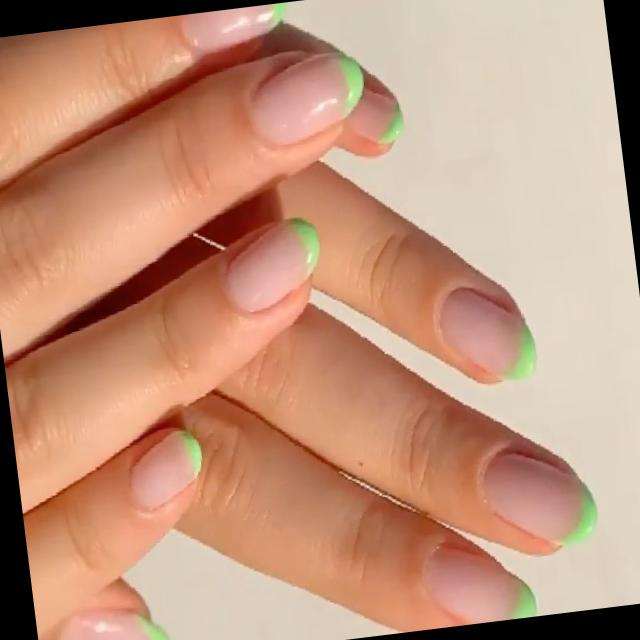Nail: (249, 52, 362, 145), (482, 450, 594, 541), (422, 542, 532, 624), (225, 218, 317, 313), (440, 287, 534, 379), (129, 430, 201, 512), (180, 3, 281, 52), (354, 92, 400, 145)
